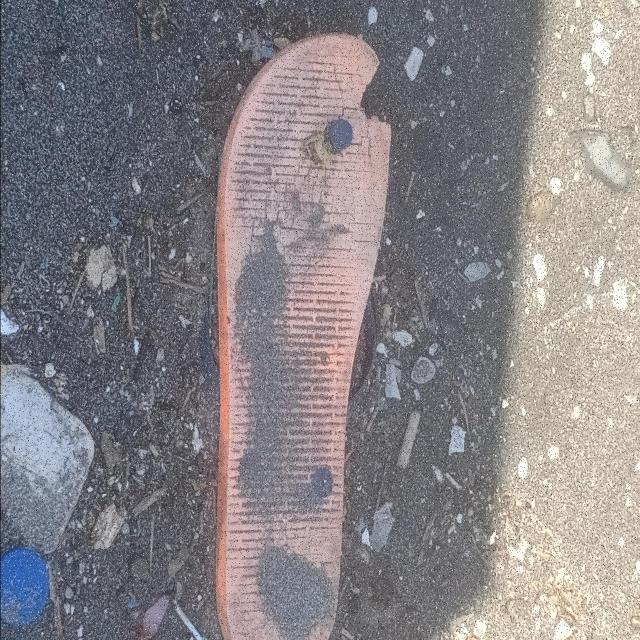plastic_waste: (1, 551, 51, 629)
rubber_waste: (215, 35, 392, 640)
